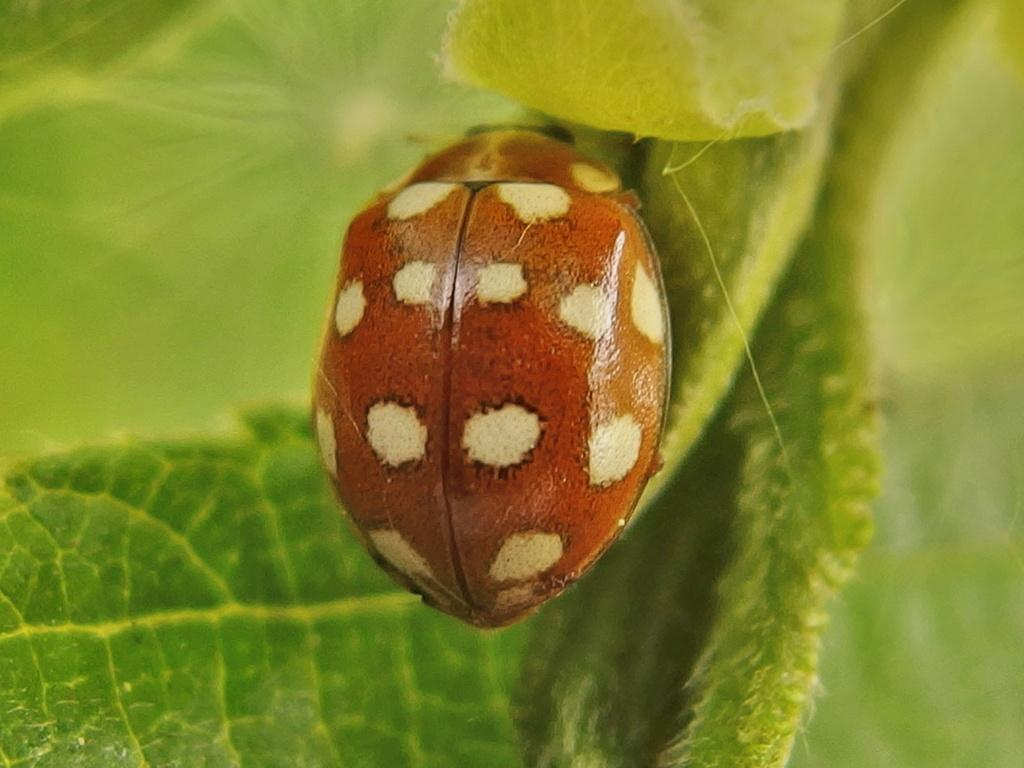ladybug: (313, 119, 675, 633)
